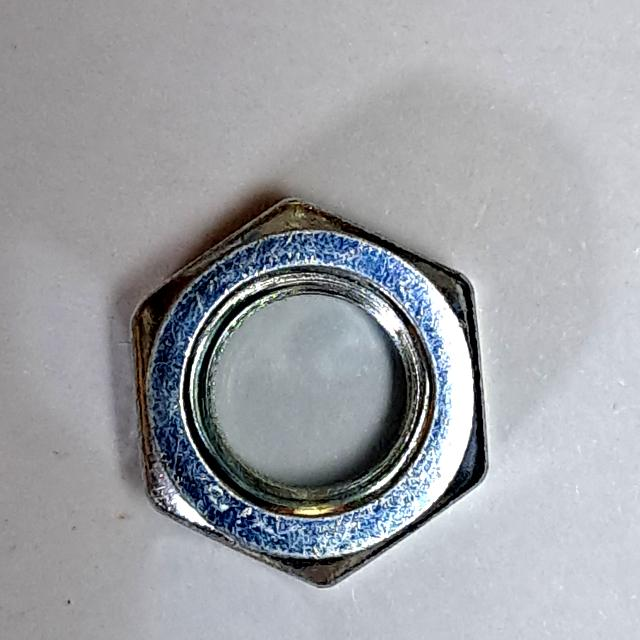Excellent: (117, 177, 496, 607)
